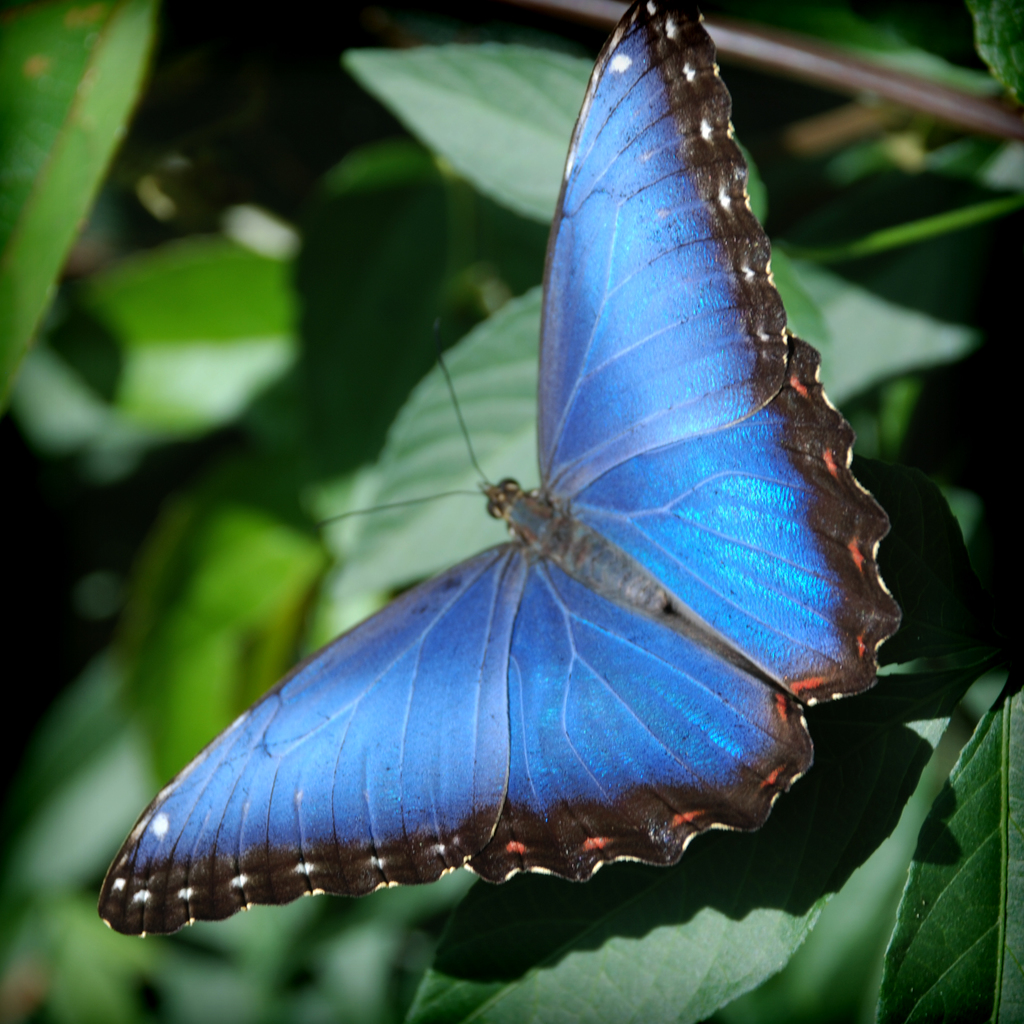Butterfly: (82, 10, 914, 942)
